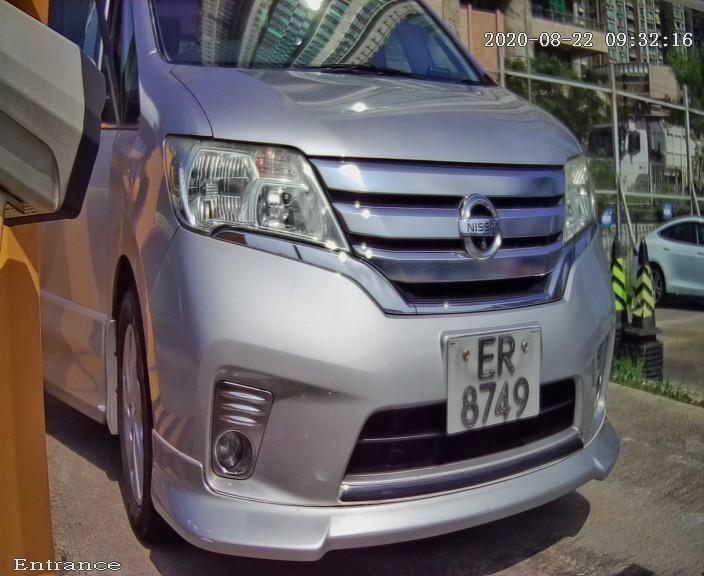License Plate: (437, 312, 547, 443)
